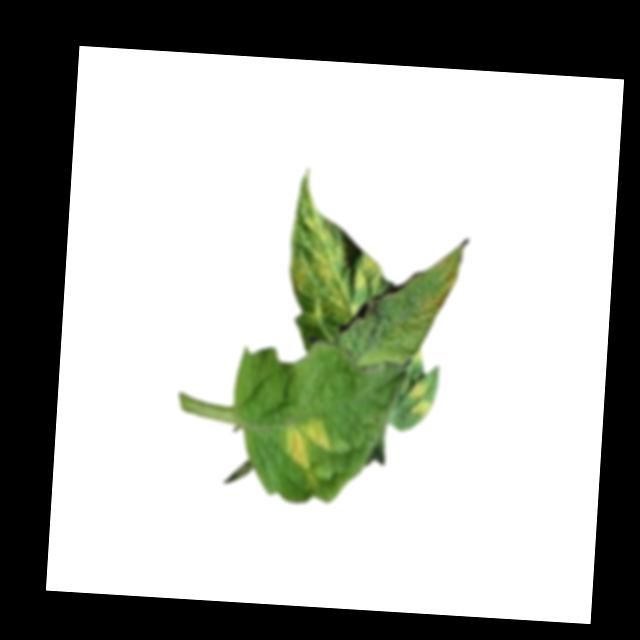Leaf_Mold: (280, 180, 388, 324), (283, 414, 335, 469), (403, 376, 436, 419)
